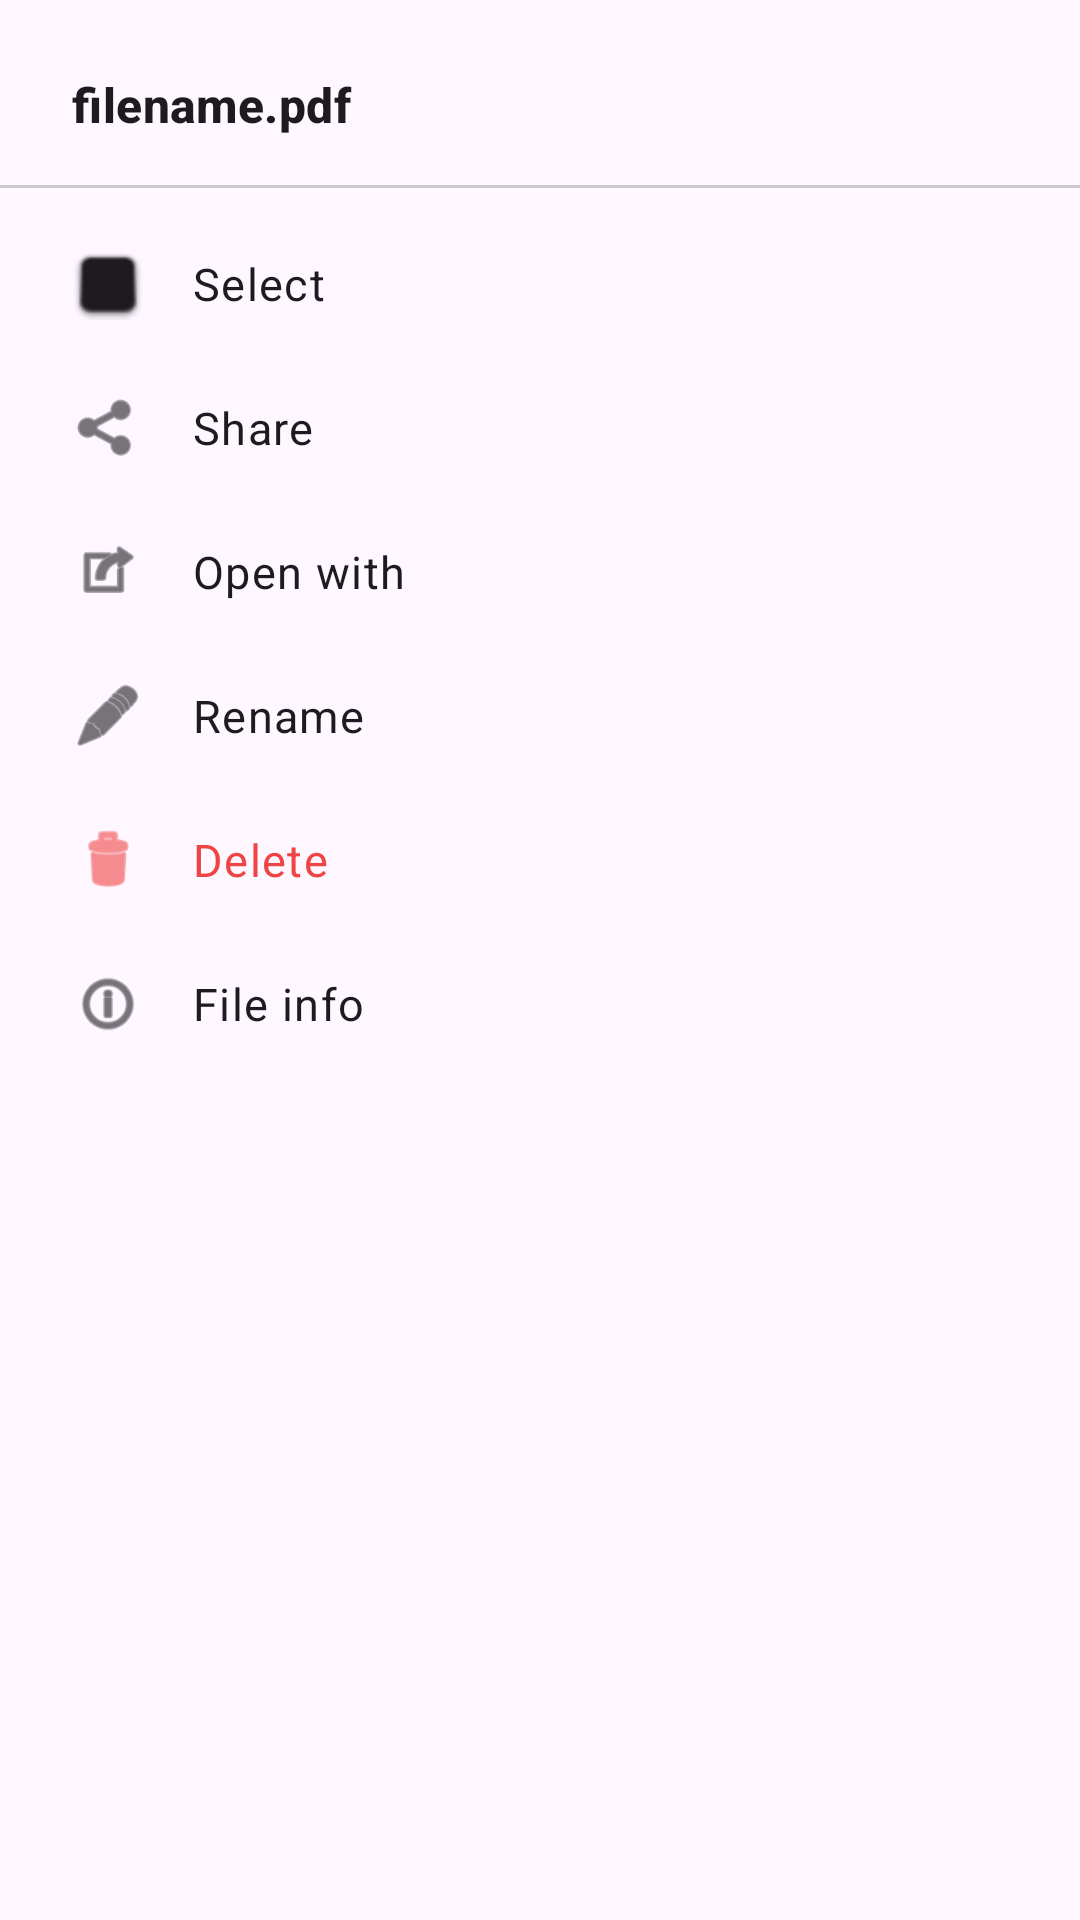

Where to tap for icons on this 1080w x 1920h app screen, as (x,y):
edit: (107,715)
info details: (108,1004)
